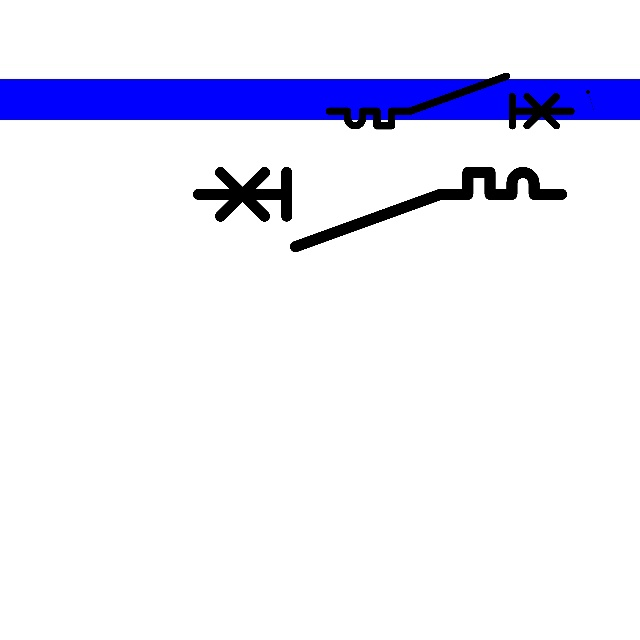interruptor_termomagnetico: (189, 163, 571, 256), (323, 70, 577, 132)
